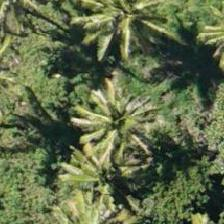coconut_tree: (72, 80, 162, 170), (84, 0, 174, 57)
